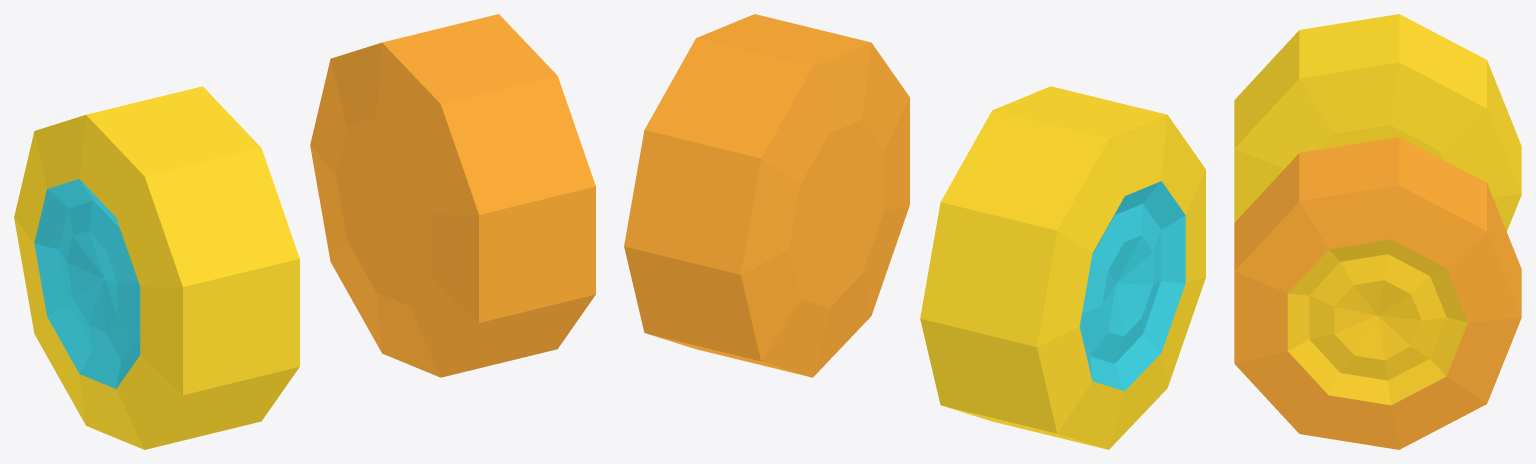
The model's file is plane-passenger-wheels_BR1.glb.
The picture shows the model from 3 angles, left to right: view 1: azimuth 30°, elevation 25°; view 2: azimuth 150°, elevation 25°; view 3: azimuth 270°, elevation 25°; orthographic projection. The views are drawn at different scales.
Visible parts, largest first — view 1: plane-passenger-wheels_BR1; view 2: plane-passenger-wheels_BR1; view 3: plane-passenger-wheels_BR1.
Boxes of the visible parts, <box> form: plane-passenger-wheels_BR1: <box>14,14,595,449</box>; plane-passenger-wheels_BR1: <box>624,14,1205,449</box>; plane-passenger-wheels_BR1: <box>1234,14,1521,449</box>.
Bounding box in the file's own units: 1.94 × 1.33 × 1.31.
1 material, 1 textured.
